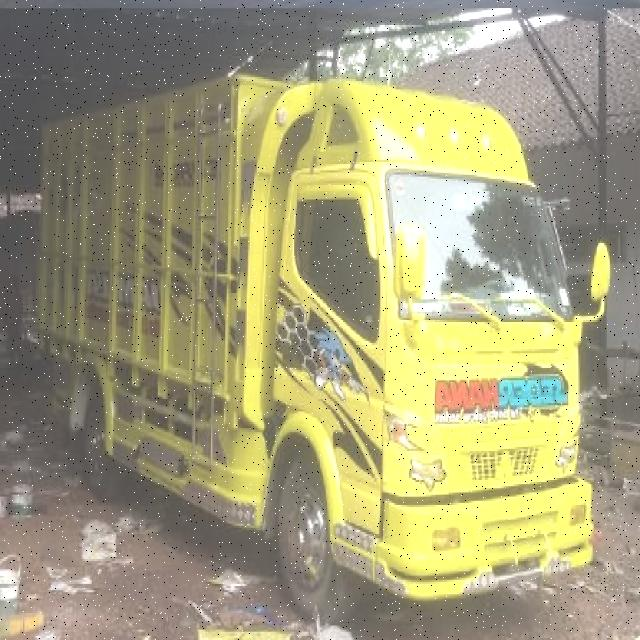truck: (42, 66, 612, 622)
